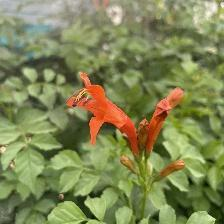honeysuckle: (64, 70, 140, 158)
